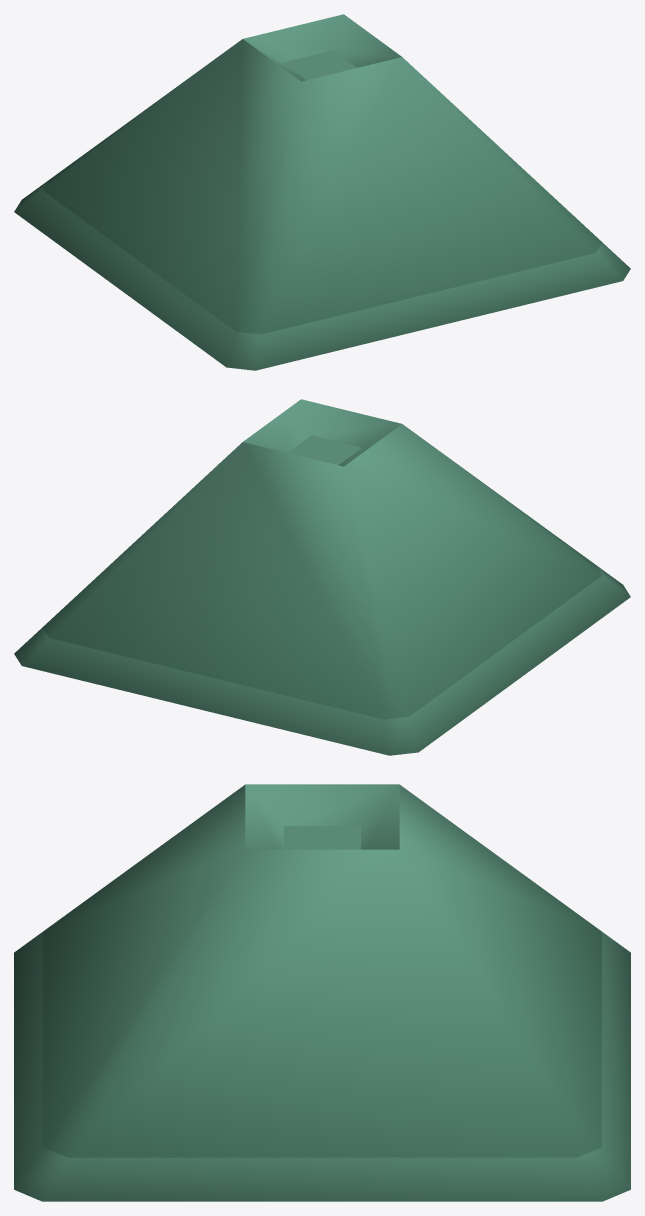
File: roof-point.glb
3 renders of one model, top to bottom at view 1: azimuth 30°, elevation 25°; view 2: azimuth 150°, elevation 25°; view 3: azimuth 270°, elevation 25°, orthographic. The views are drawn at different scales.
Visible parts, largest first — view 1: roof-point; view 2: roof-point; view 3: roof-point.
Part boxes in pixels (x1,y1,x2,y2): roof-point: (14, 14, 630, 370); roof-point: (14, 399, 630, 755); roof-point: (14, 784, 630, 1201).
Bounding box in the file's own units: 3.3 × 1.5 × 3.3.
